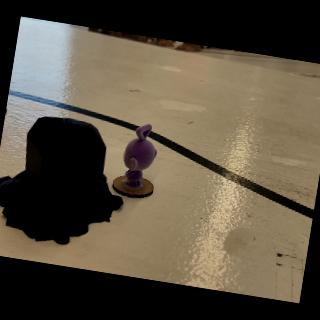teletubby: (123, 124, 157, 187)
